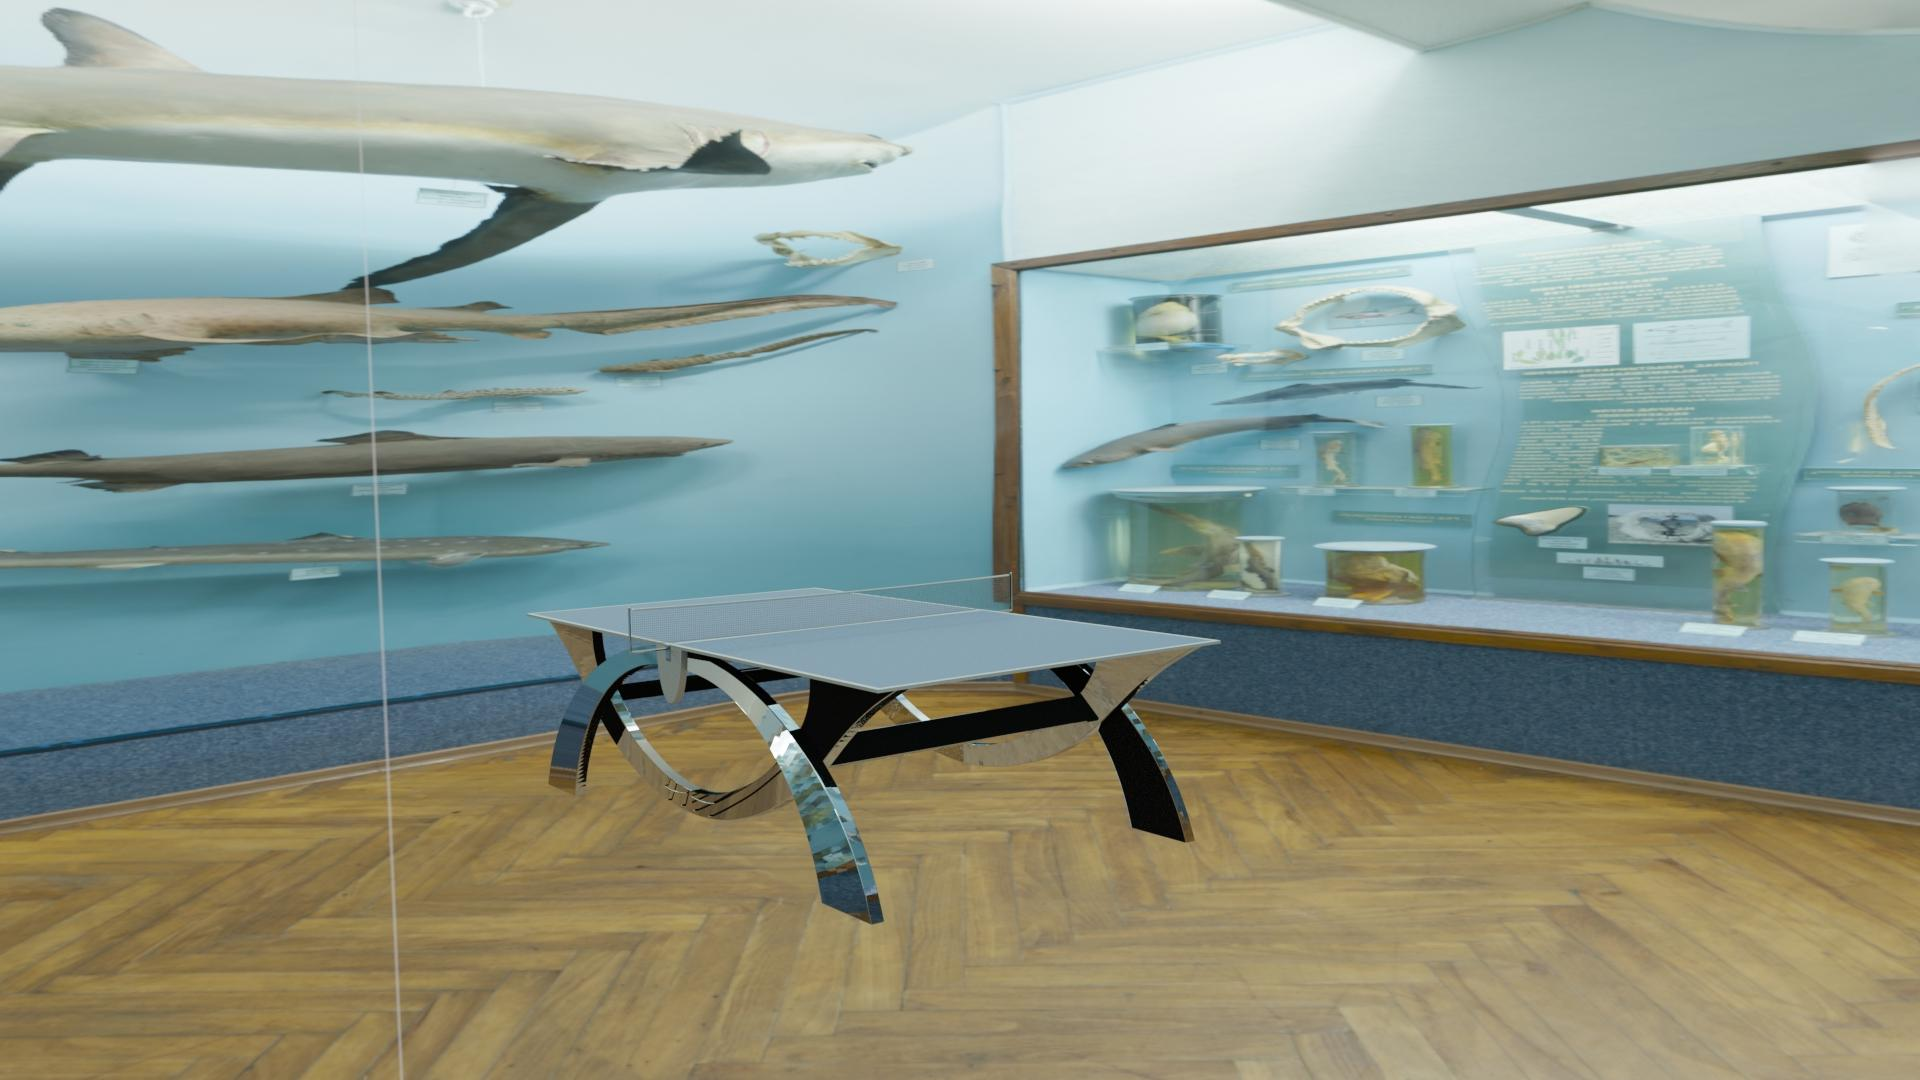table: (533, 588, 1213, 688)
